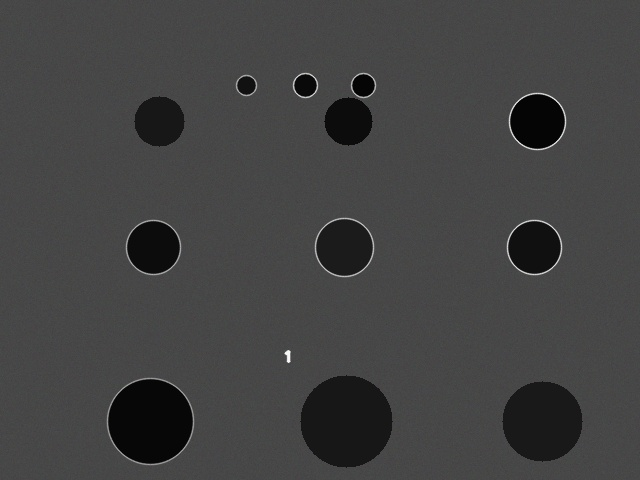hole: (300, 375, 392, 467), (107, 378, 193, 464), (502, 381, 582, 461), (315, 218, 373, 276), (509, 93, 565, 149), (126, 220, 180, 274), (507, 220, 561, 274), (134, 96, 184, 146), (324, 97, 372, 145), (293, 73, 317, 97), (351, 73, 375, 97), (236, 75, 256, 95)
